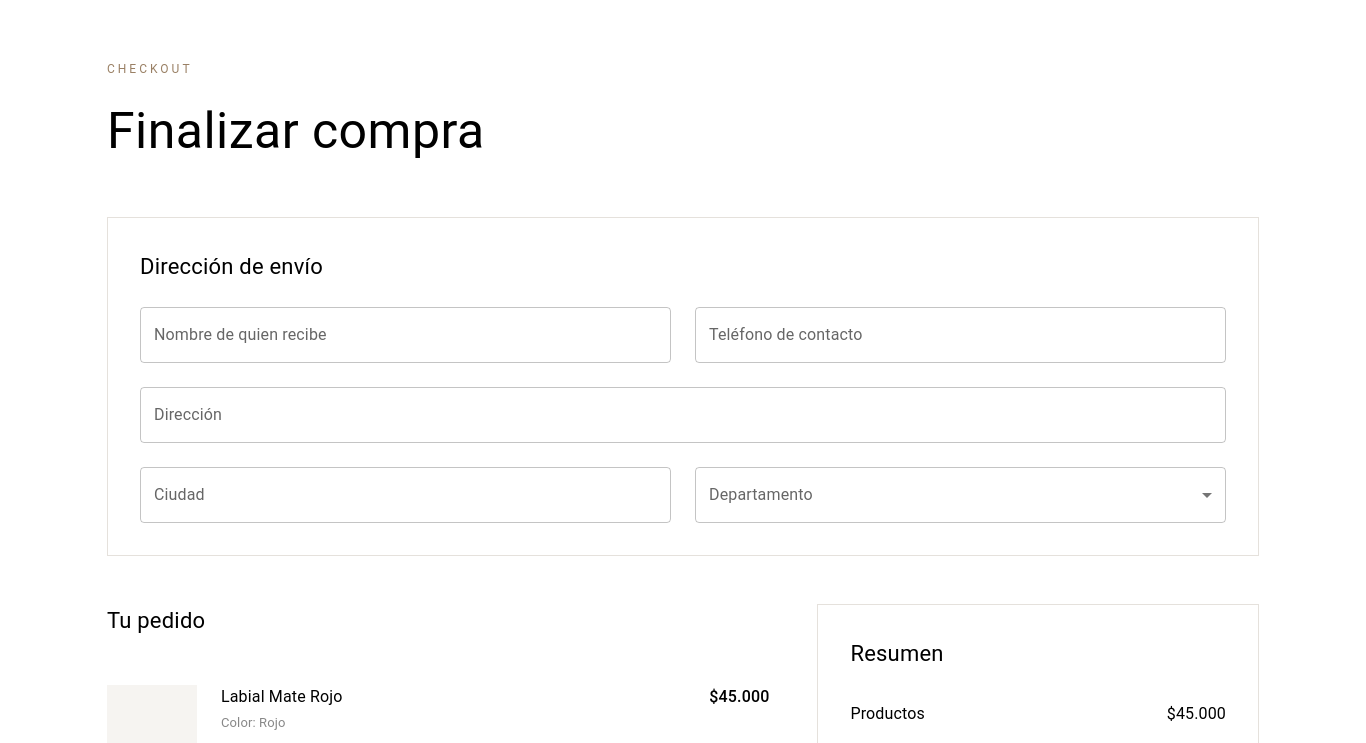
Test: Checkout › keeps the submit button disabled until the shipping address is complete
Type "Ana Pérez" into the field labelled "Nombre de quien recibe" at (406, 335), box [140, 307, 671, 363]
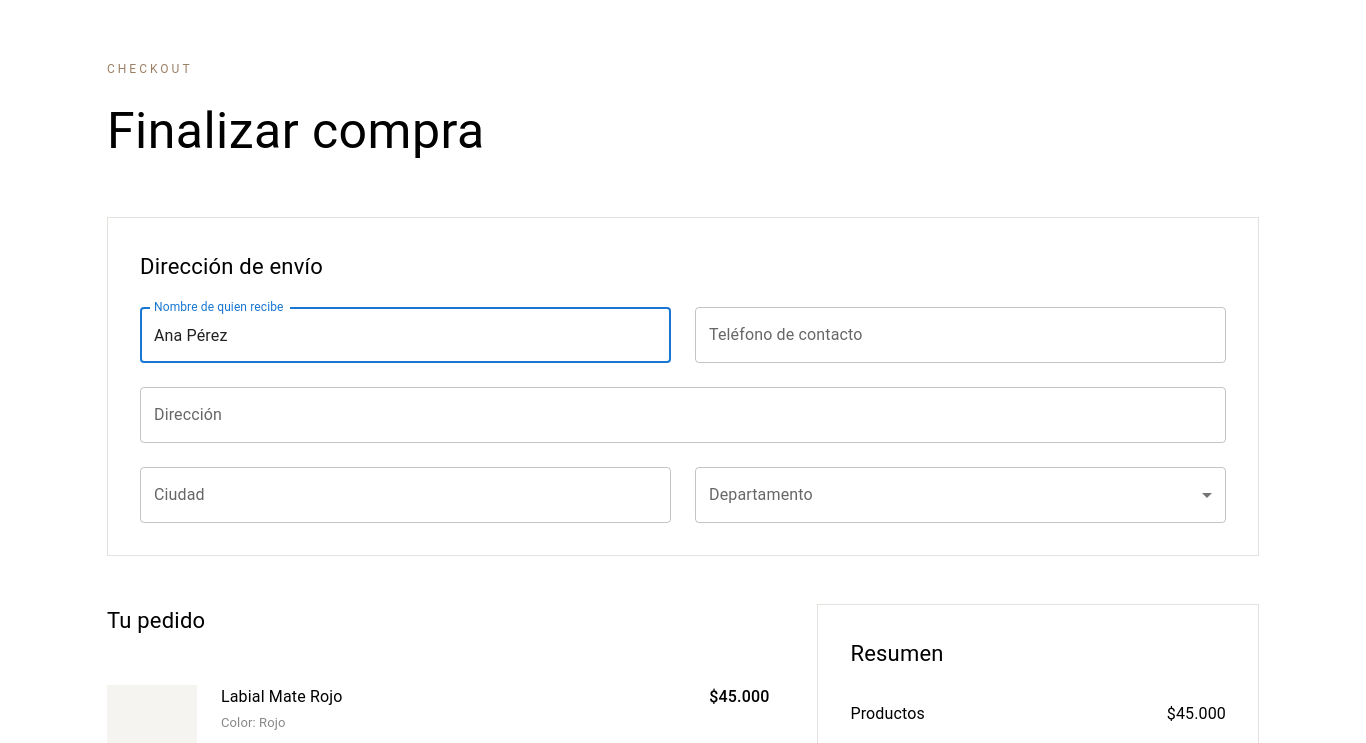
Type "3001234567" into the field labelled "Teléfono de contacto" at (960, 335), box [695, 307, 1226, 363]
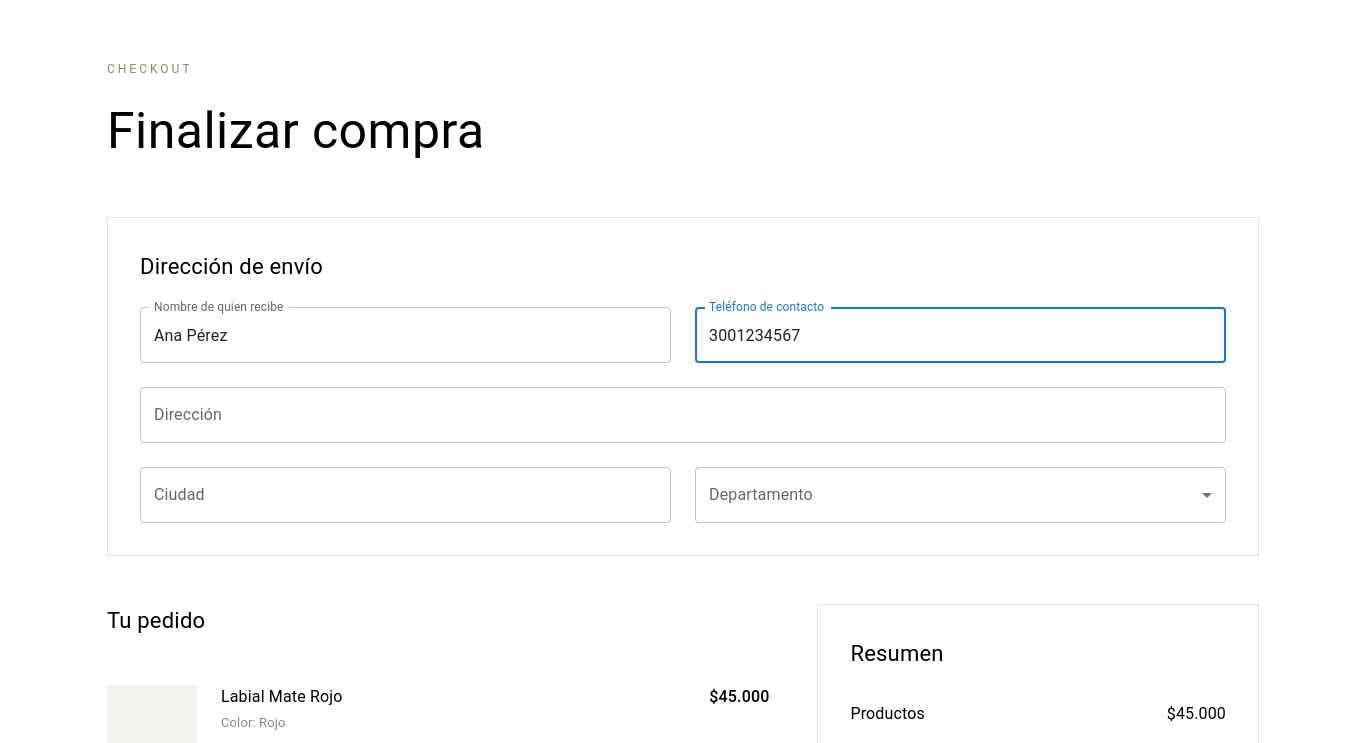
Type "Calle 123 #45-67" into the field labelled "Dirección" at (683, 415), box [140, 387, 1226, 443]
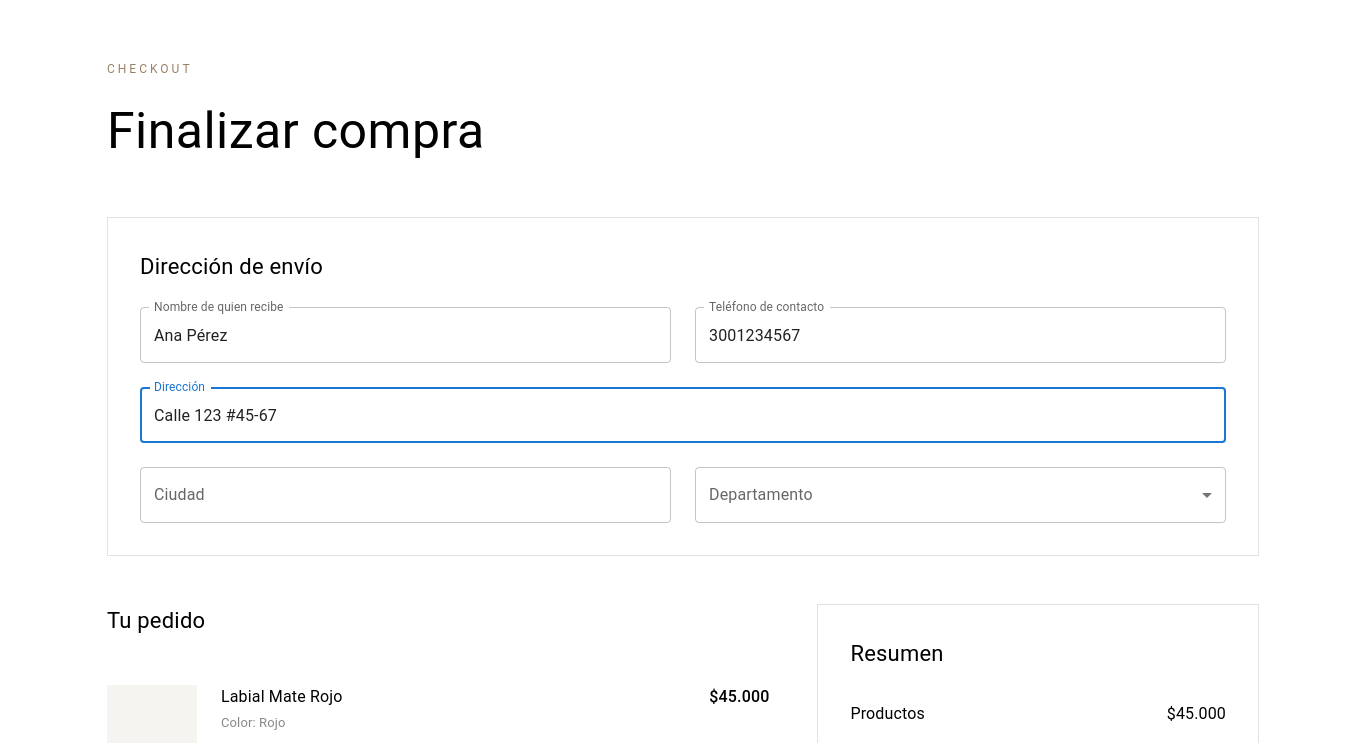
Type "Bogotá" into the field labelled "Ciudad" at (406, 495), box [140, 467, 671, 523]
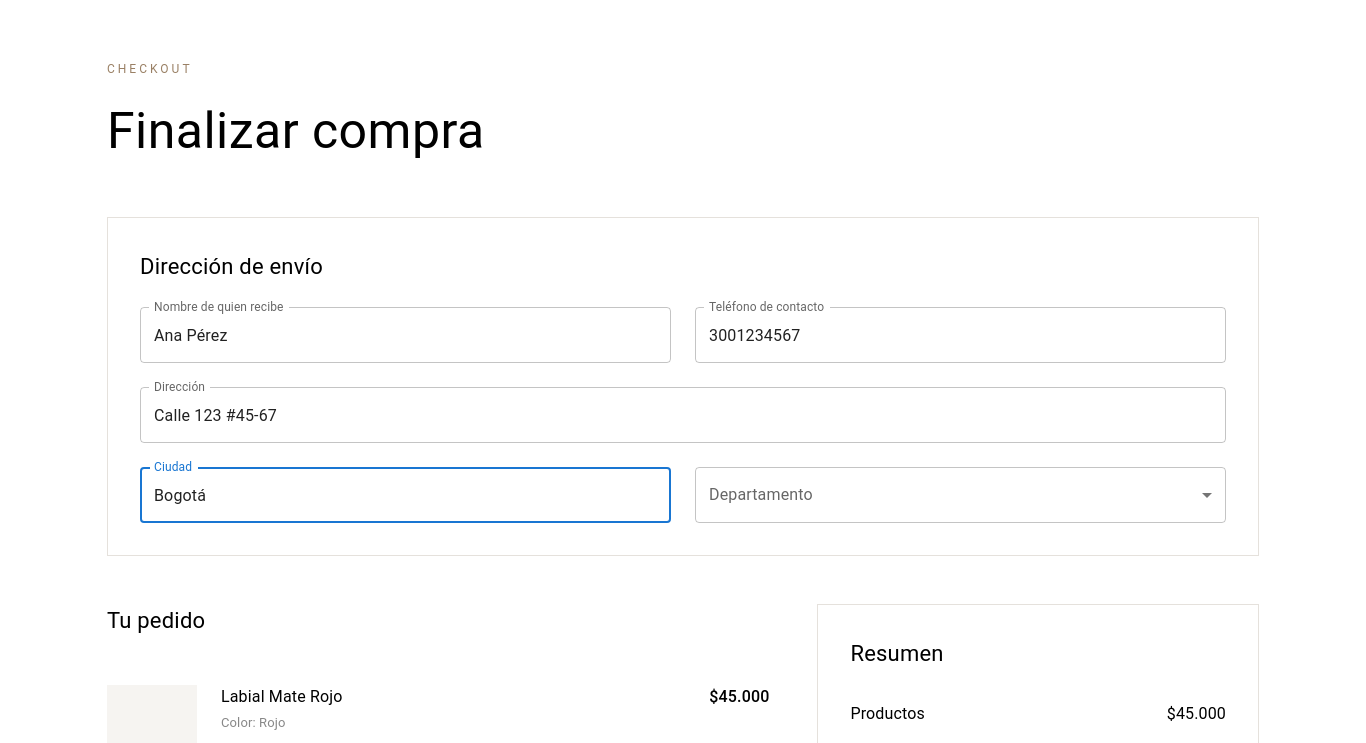
Click the dropdown named "departamento" at (960, 495), box [695, 467, 1226, 523]
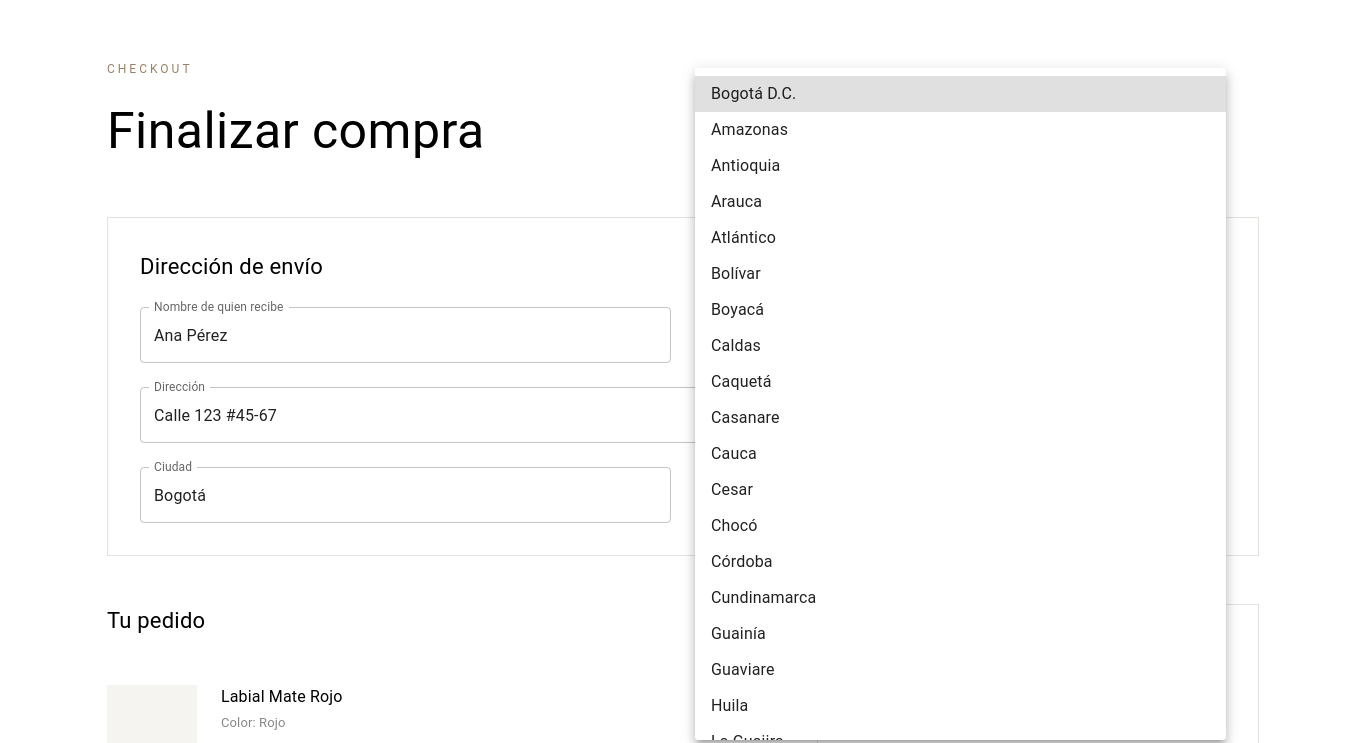
Click the option "Bogotá D.C." at (754, 94), box [695, 76, 1226, 112]
(page scrolled)
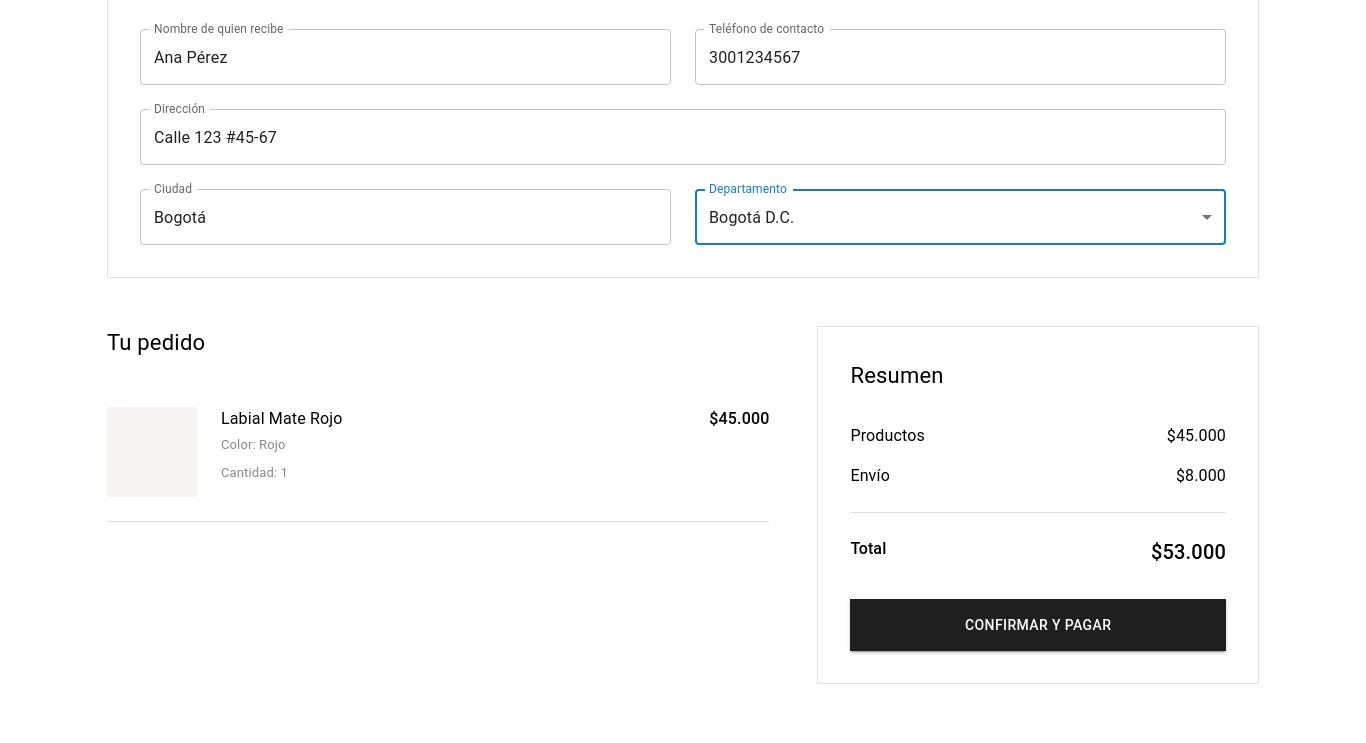
Now the button "Confirmar y pagar" is enabled, box [850, 599, 1226, 651]
